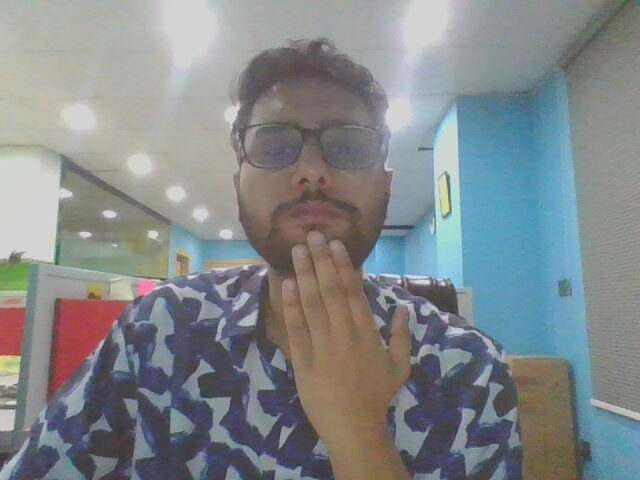thanks: (264, 225, 435, 471)
